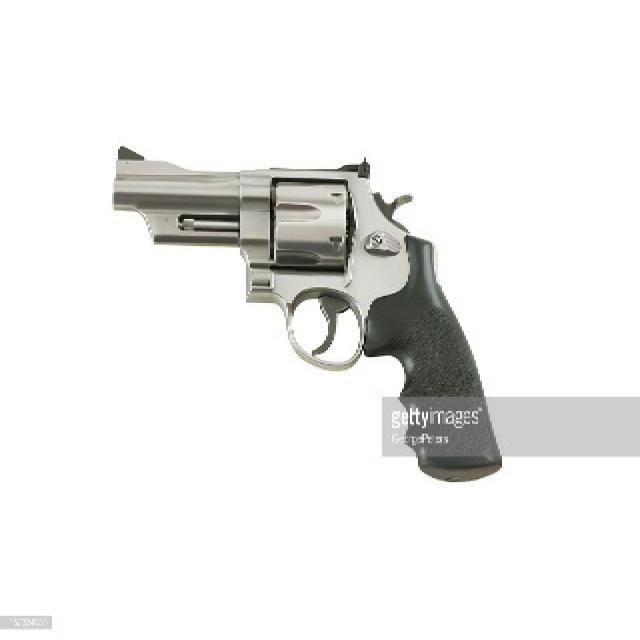gun: (88, 135, 514, 479)
